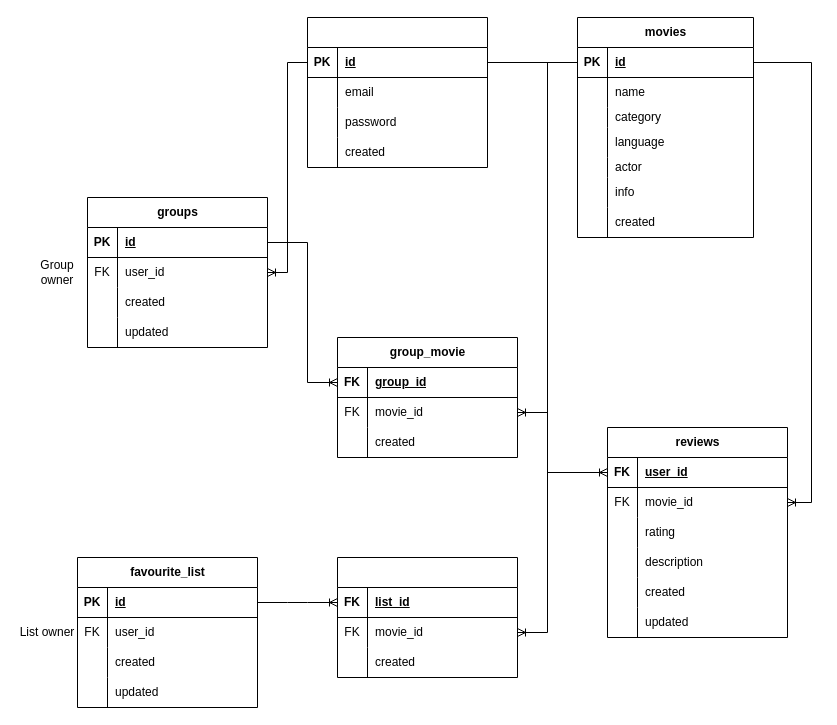
The diagram is 837 pixels wide and 725 high, and some of its shapes have lost their labels. Here are the shapes that lost their labels. From the top down, the box of each, then its label:
(306, 16, 488, 168): account
(336, 556, 518, 678): favourite_movie
